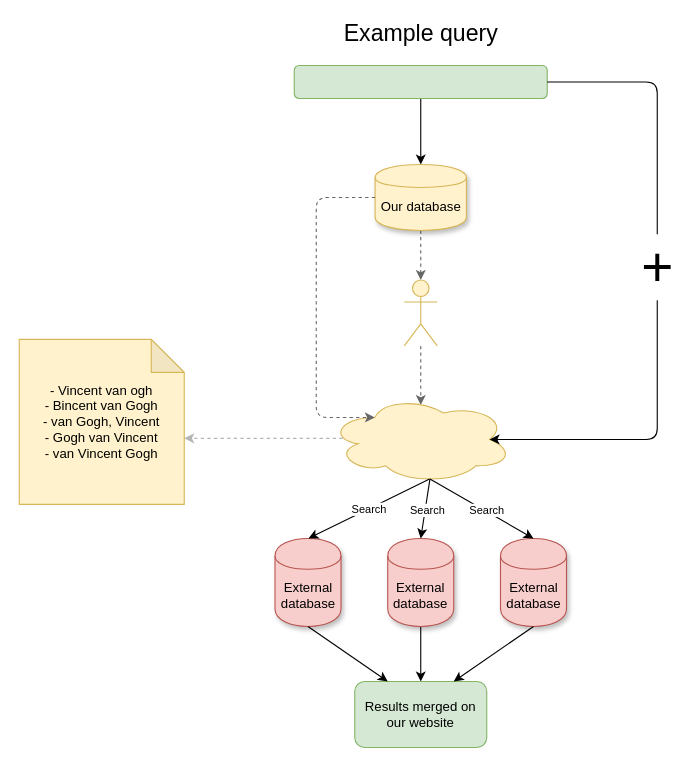
Some shapes in this 692 by 767 pixel diagram are drawn without their labels. Here are the shapes that lost their labels. From the top down, the centre of each, then its label:
pixel 420 81: "Vincent von Gochh"
pixel 420 312: Vincent van Gogh
pixel 420 438: List of fuzzy names
